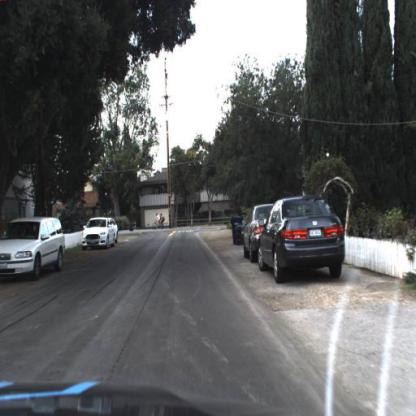biker: (152, 212, 168, 231), (162, 212, 169, 231), (155, 213, 161, 230), (162, 212, 167, 228)
car: (259, 199, 347, 283), (1, 218, 67, 283), (244, 204, 272, 260), (81, 217, 117, 248), (111, 220, 121, 245)
